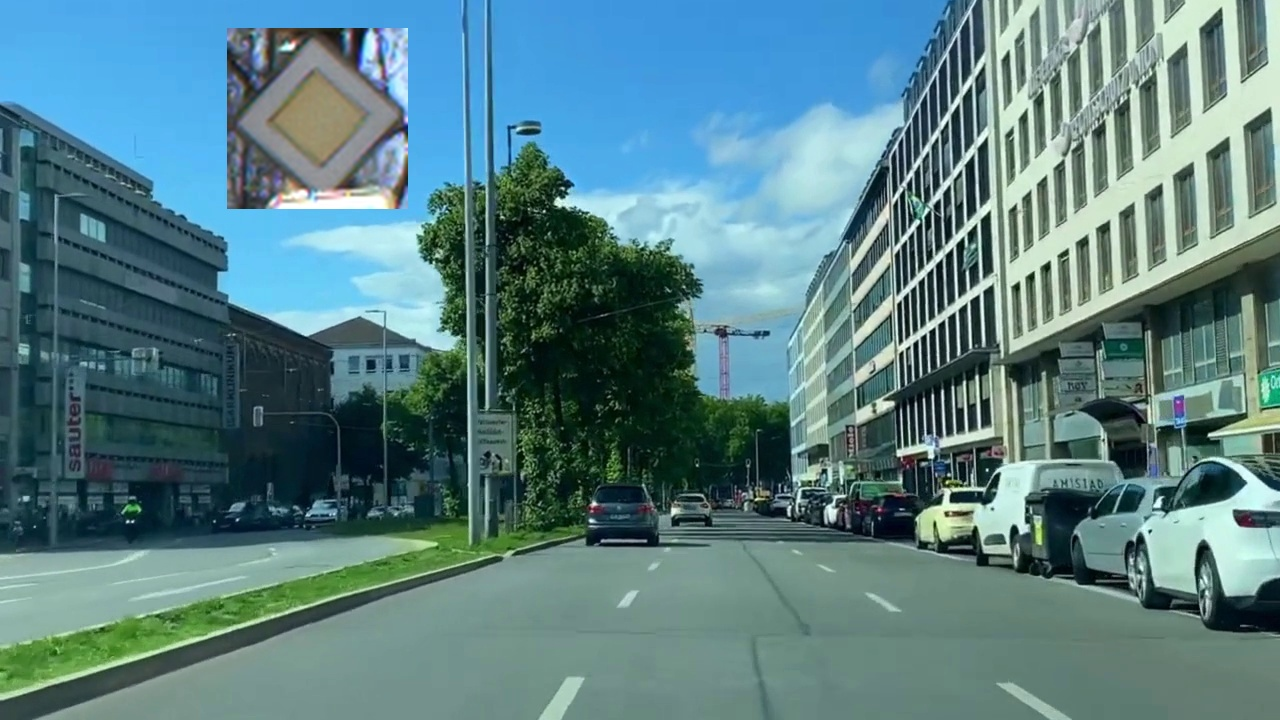Priority road: (227, 28, 408, 209)
